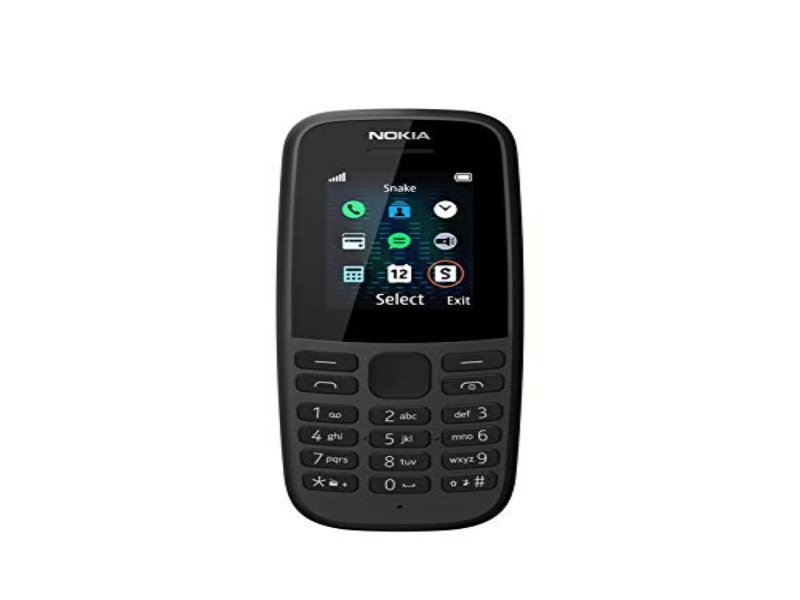mobile: (270, 99, 538, 561)
